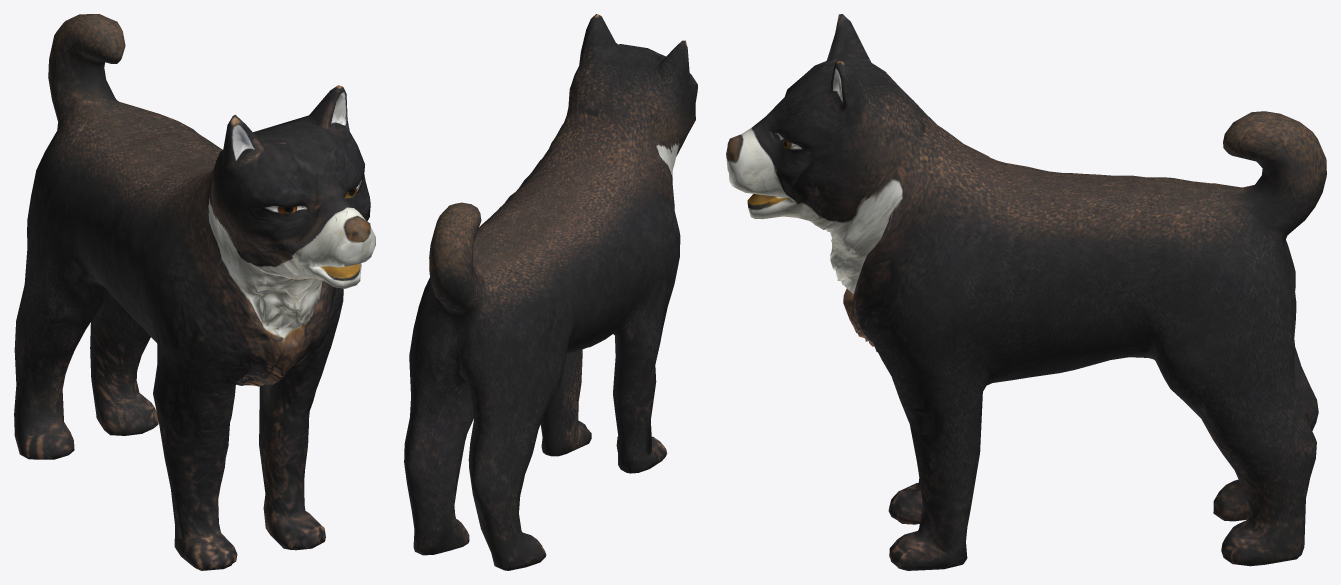
Rendered from 牛来-坏狼B.fbx.
The picture shows the model from 3 angles, left to right: view 1: azimuth 30°, elevation 25°; view 2: azimuth 150°, elevation 25°; view 3: azimuth 270°, elevation 25°; orthographic projection. The views are drawn at different scales.
Parts seen in each view (by area): view 1: tripo_node_aa0c8098; view 2: tripo_node_aa0c8098; view 3: tripo_node_aa0c8098.
Boxes of the visible parts, x1,y1,x2,y2 form: tripo_node_aa0c8098: (14,14,375,570); tripo_node_aa0c8098: (404,14,697,570); tripo_node_aa0c8098: (726,14,1326,570).
Size of the model in its own units: 0.3561 by 0.9212 by 0.9993.
Materials: 1 (1 with a texture image).
